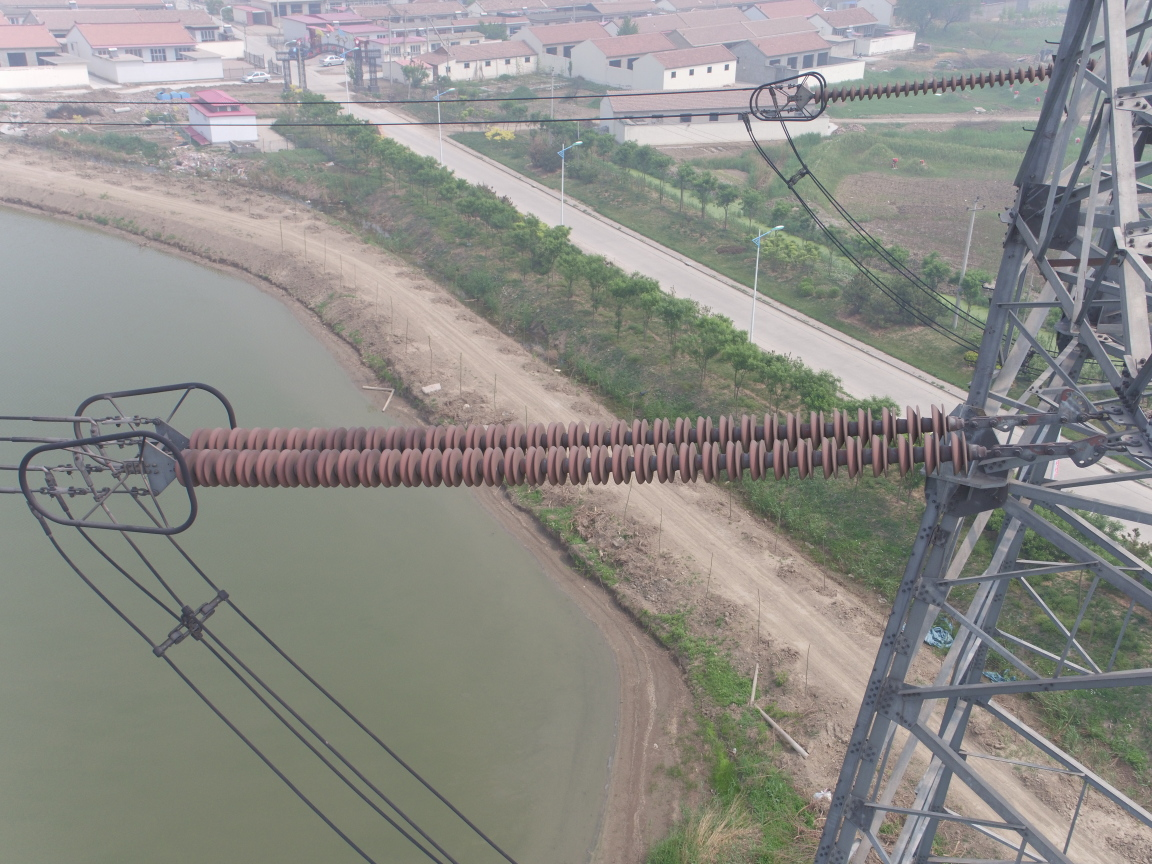insulator: (170, 402, 1070, 490), (804, 62, 1050, 106)
